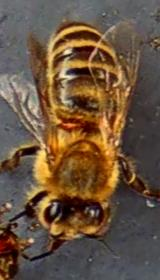varroa_mite: (46, 106, 94, 152)
